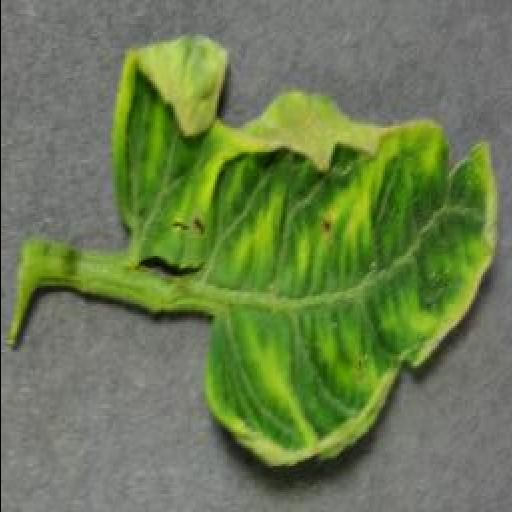disease_tomato: (108, 33, 496, 471)
